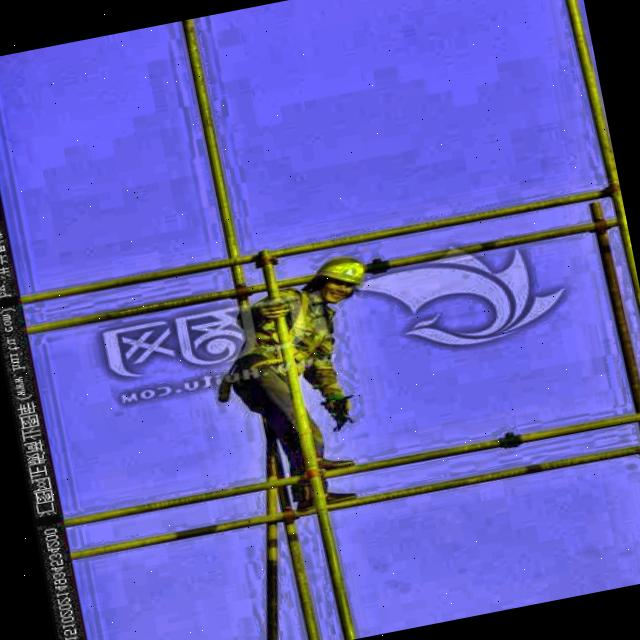helmet: (303, 248, 377, 310)
